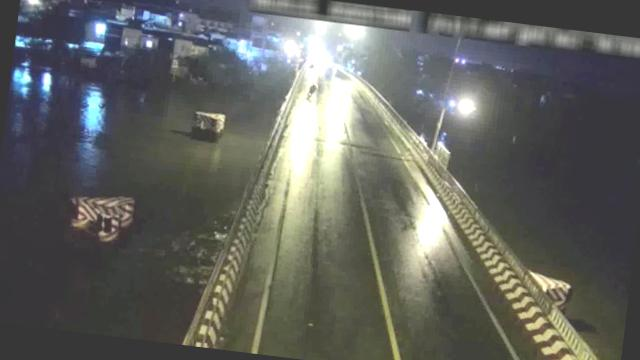Bike: (303, 82, 316, 102)
